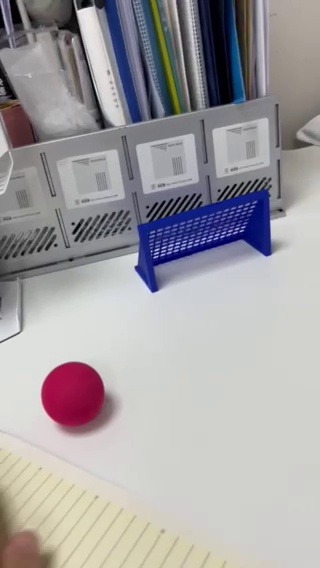goal: (130, 190, 283, 295)
redball: (39, 361, 105, 428)
